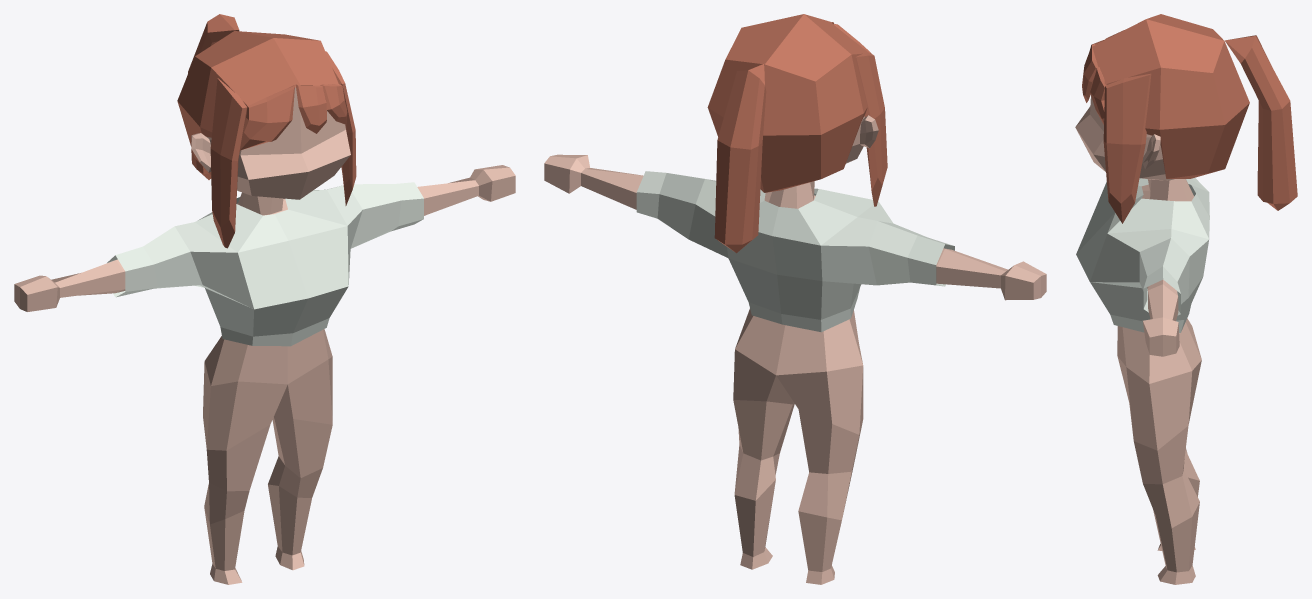
Rendered from MainPlayer.fbx.
The picture shows the model from 3 angles, left to right: view 1: azimuth 30°, elevation 25°; view 2: azimuth 150°, elevation 25°; view 3: azimuth 270°, elevation 25°; orthographic projection.
Parts seen in each view (by area): view 1: Female; view 2: Female; view 3: Female.
Part boxes in pixels (left/top/right/bottom): Female: left=14, top=14, right=515, bottom=584; Female: left=544, top=14, right=1046, bottom=584; Female: left=1075, top=14, right=1297, bottom=584.
Bounding box in the file's own units: 544 × 576 × 214.
